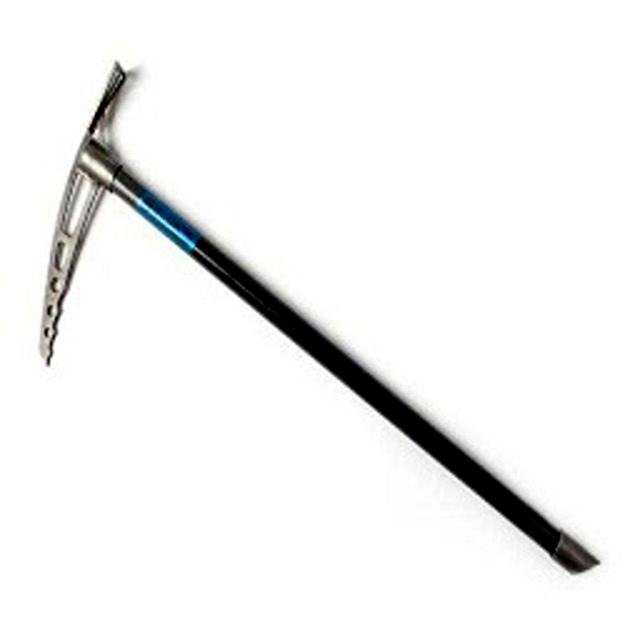ax: (27, 53, 609, 586)
